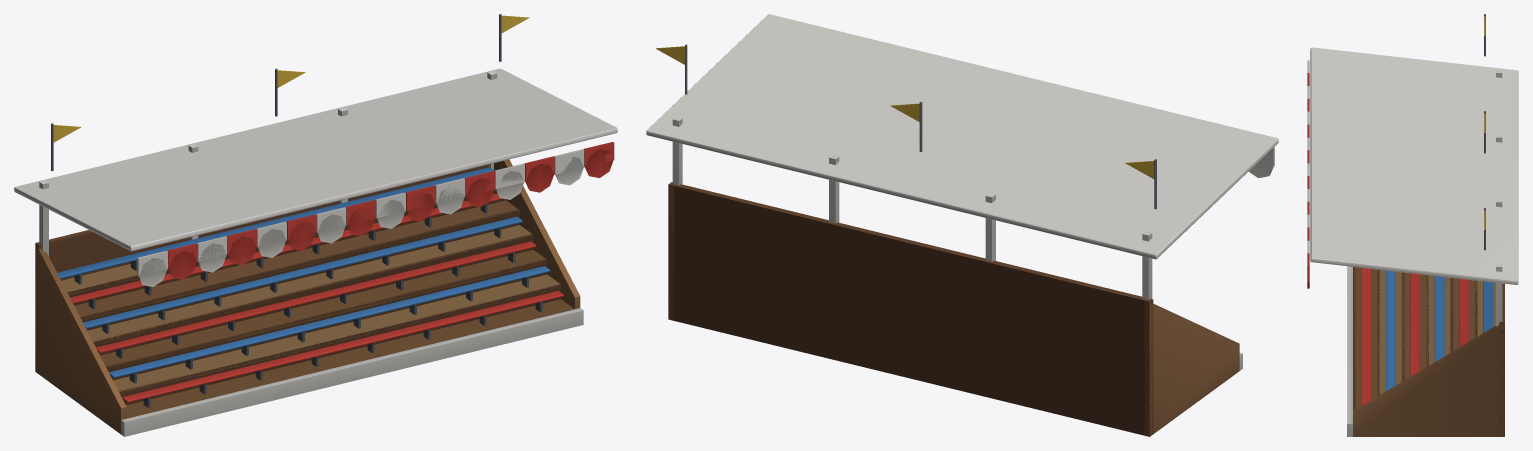
Rendered from prop.grandstand.lod1.glb.
3 views of the same model, side by side, from view 1: azimuth 30°, elevation 25°; view 2: azimuth 150°, elevation 25°; view 3: azimuth 270°, elevation 25° (orthographic). The views are drawn at different scales.
Parts seen in each view (by area): view 1: grandstand; view 2: grandstand; view 3: grandstand.
Boxes of the visible parts, x1=… form: grandstand: x1=14, y1=14, x2=617, y2=436; grandstand: x1=646, y1=14, x2=1278, y2=436; grandstand: x1=1307, y1=14, x2=1518, y2=436.
Bounding box in the file's own units: 17.74 × 8.7 × 7.37.
